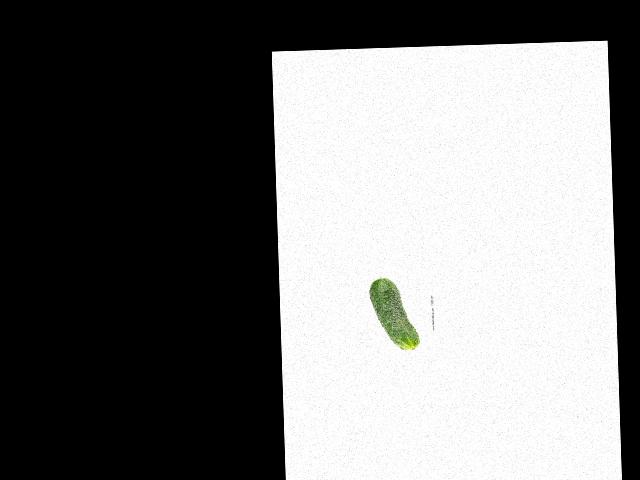cucumber: (369, 276, 420, 351)
